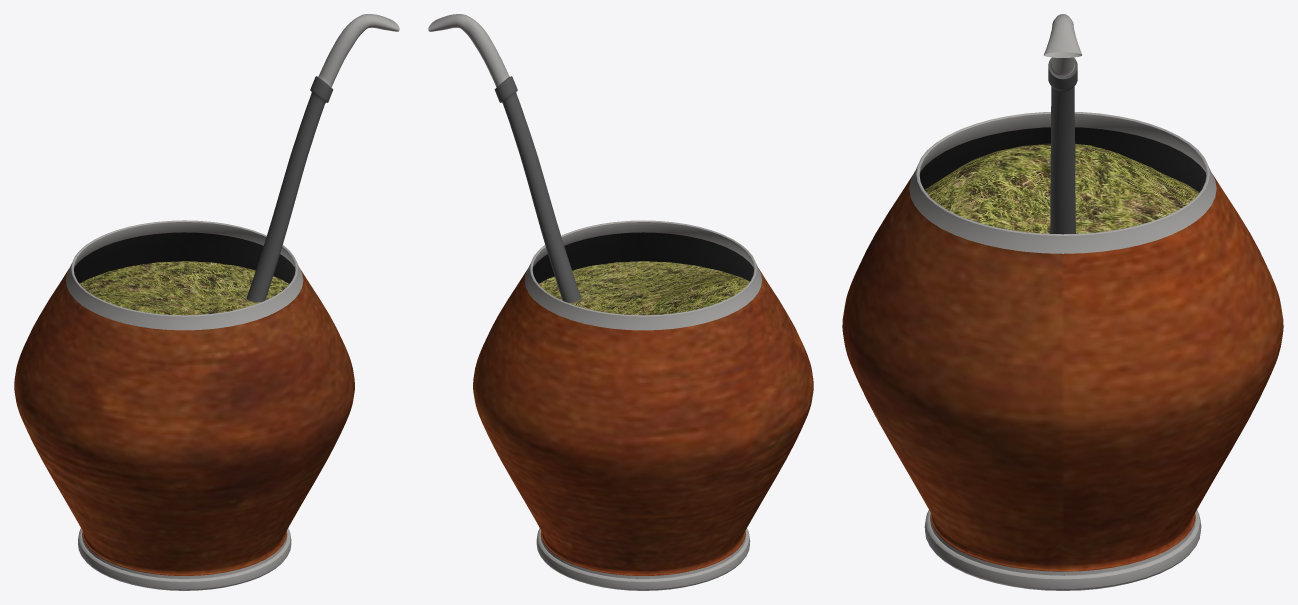
The model's file is mateUruguasho2.gltf.
3 renders of one model, left to right at view 1: azimuth 30°, elevation 25°; view 2: azimuth 150°, elevation 25°; view 3: azimuth 270°, elevation 25°, orthographic. The views are drawn at different scales.
Visible parts, largest first — view 1: MATE_5, YERBA_4, BOMBILLA_3; view 2: MATE_5, YERBA_4, BOMBILLA_3; view 3: MATE_5, YERBA_4, BOMBILLA_3.
Part boxes in pixels (x1,y1,x2,y2): MATE_5: (14, 220, 354, 590); YERBA_4: (78, 261, 299, 330); BOMBILLA_3: (246, 14, 399, 302); MATE_5: (473, 220, 813, 590); YERBA_4: (530, 261, 759, 330); BOMBILLA_3: (428, 14, 581, 302); MATE_5: (842, 112, 1283, 590); YERBA_4: (924, 143, 1207, 253); BOMBILLA_3: (1044, 14, 1081, 253).
Size of the model in its own units: 2.05 by 2.69 by 1.7.
5 materials, 2 textured.
